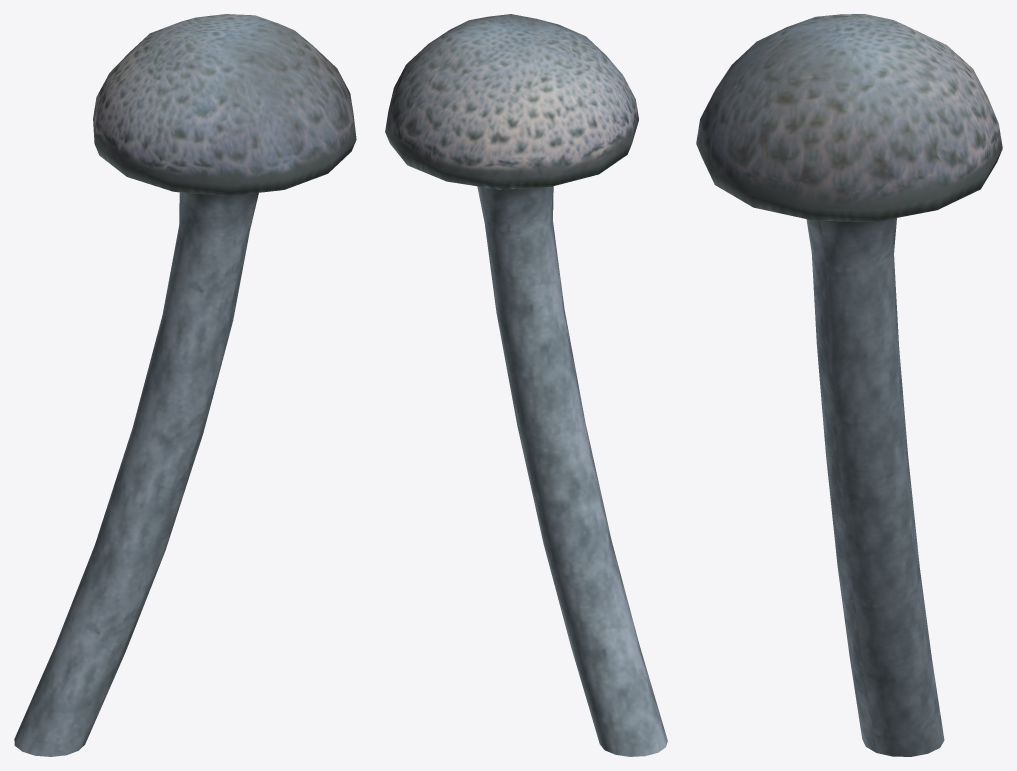
File: mushy4.FBX
3 views of the same model, side by side, from view 1: azimuth 30°, elevation 25°; view 2: azimuth 150°, elevation 25°; view 3: azimuth 270°, elevation 25° (orthographic). The views are drawn at different scales.
Parts seen in each view (by area): view 1: mushy4_uv; view 2: mushy4_uv; view 3: mushy4_uv.
Boxes of the visible parts, left/top/right/bottom form: mushy4_uv: left=14, top=14, right=356, bottom=756; mushy4_uv: left=385, top=14, right=667, bottom=756; mushy4_uv: left=696, top=14, right=1002, bottom=756.
Bounding box in the file's own units: 22.48 × 50.08 × 17.61.
